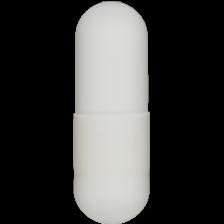63187-562: (0, 0, 224, 224)
